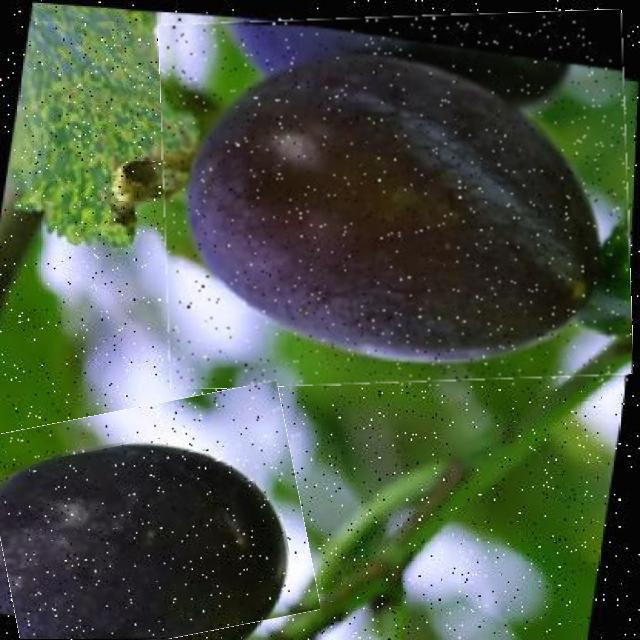plum: (161, 13, 630, 386), (0, 393, 310, 640)
